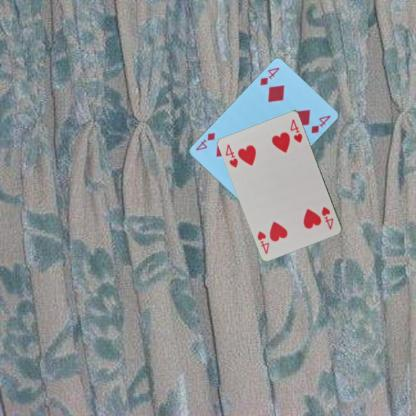4d: (257, 64, 281, 86)
4h: (319, 204, 335, 231), (223, 142, 239, 168)
